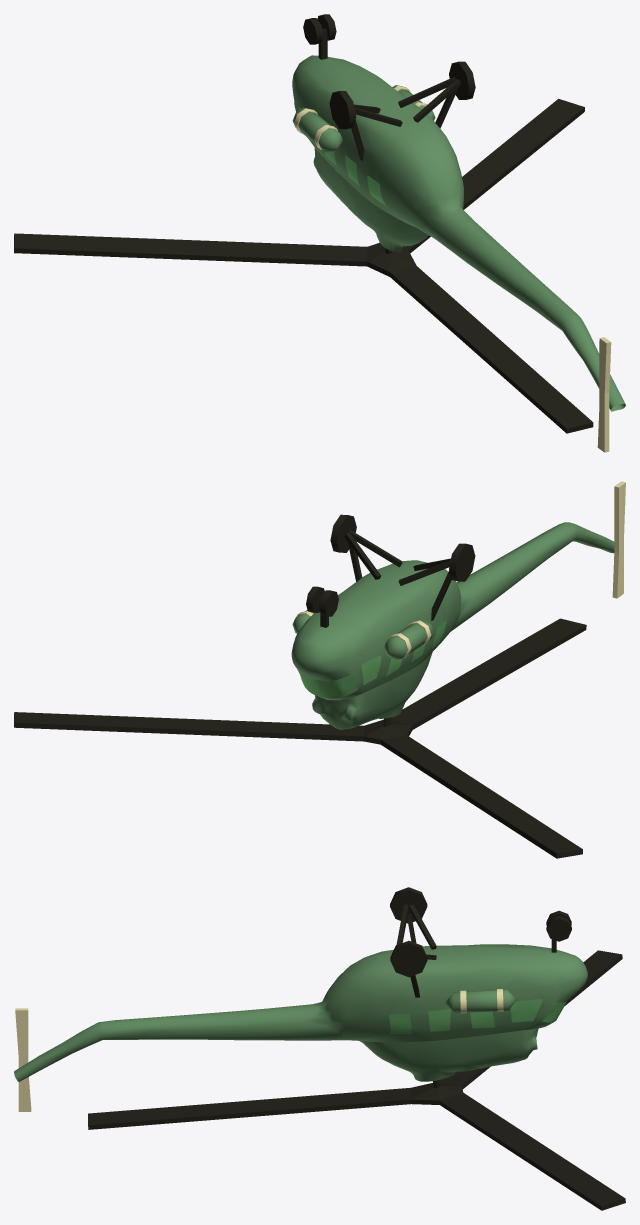
File: heli1.obj
The picture shows the model from 3 angles, top to bottom: view 1: azimuth 30°, elevation 25°; view 2: azimuth 150°, elevation 25°; view 3: azimuth 270°, elevation 25°; orthographic projection. The views are drawn at different scales.
Parts seen in each view (by area): view 1: MI2BODY; view 2: MI2BODY; view 3: MI2BODY.
Part boxes in pixels (x1=…): MI2BODY: x1=14, y1=14, x2=625, y2=452; MI2BODY: x1=14, y1=481, x2=625, y2=858; MI2BODY: x1=14, y1=887, x2=625, y2=1210.
Bounding box in the file's own units: 111 × 42.19 × 113.
